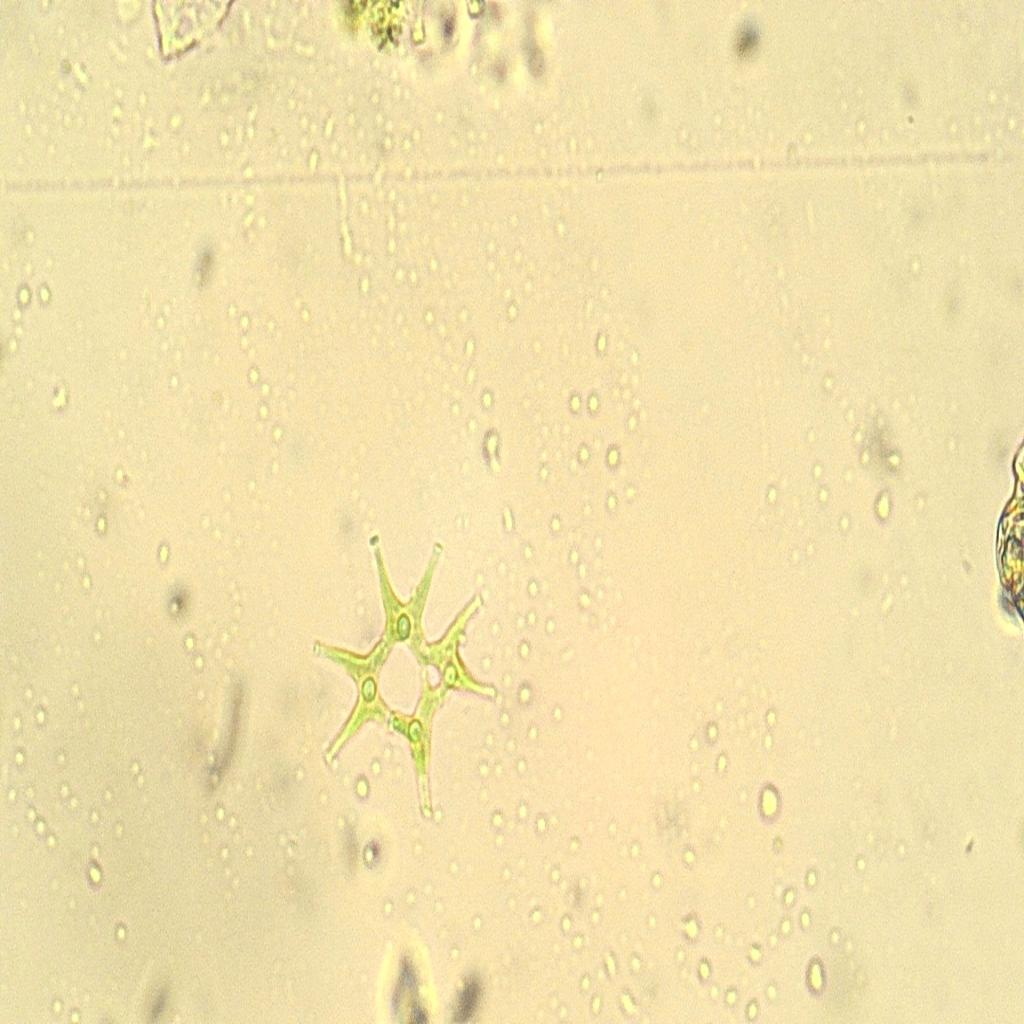Pediastrum_75FO: (290, 517, 517, 851)
